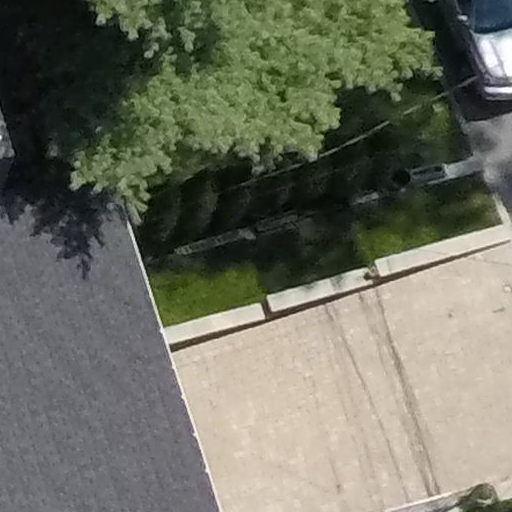container: (409, 159, 445, 189), (388, 166, 414, 190)
